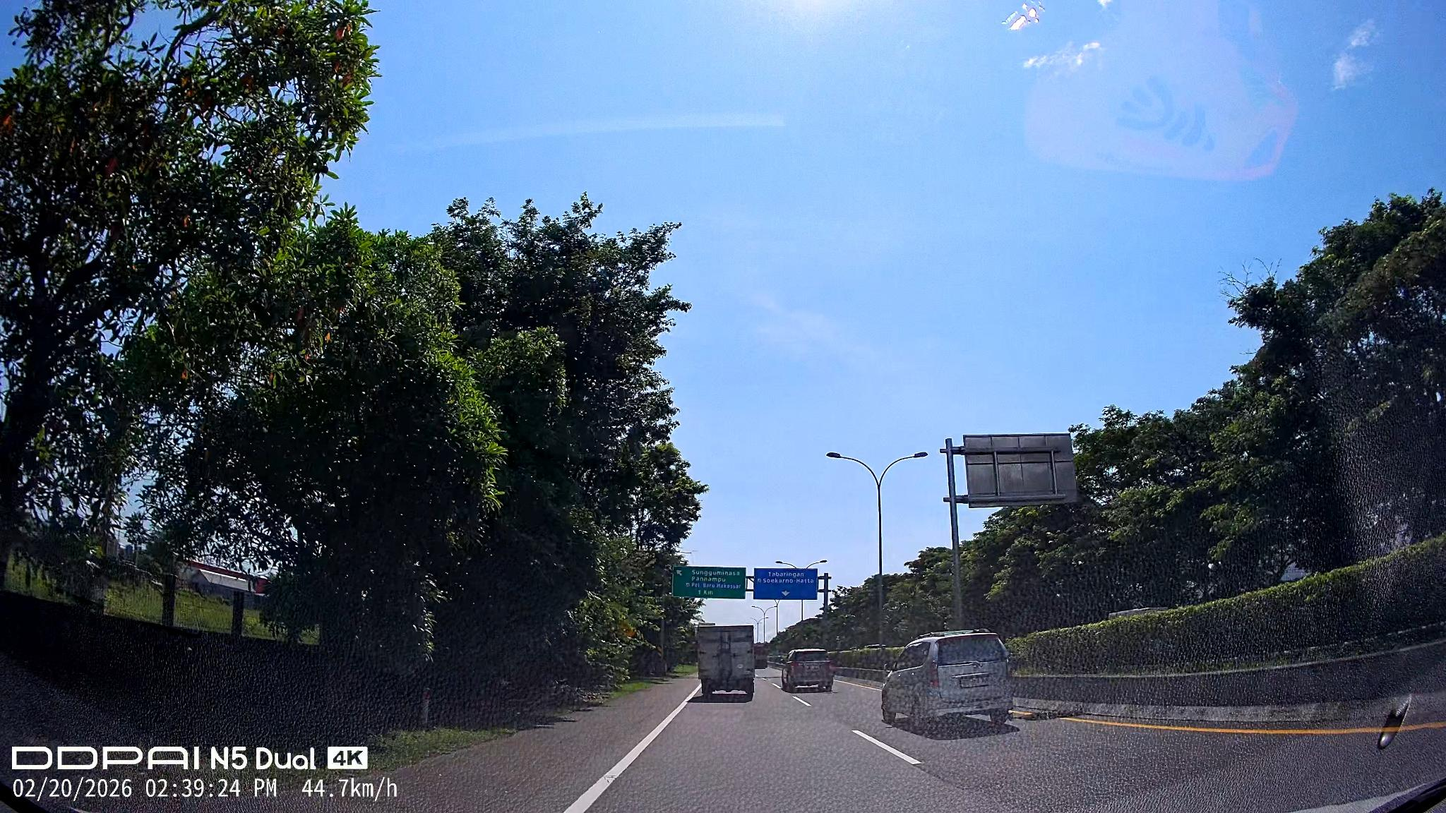rambu_teks: (671, 565, 746, 600), (754, 567, 818, 601)
